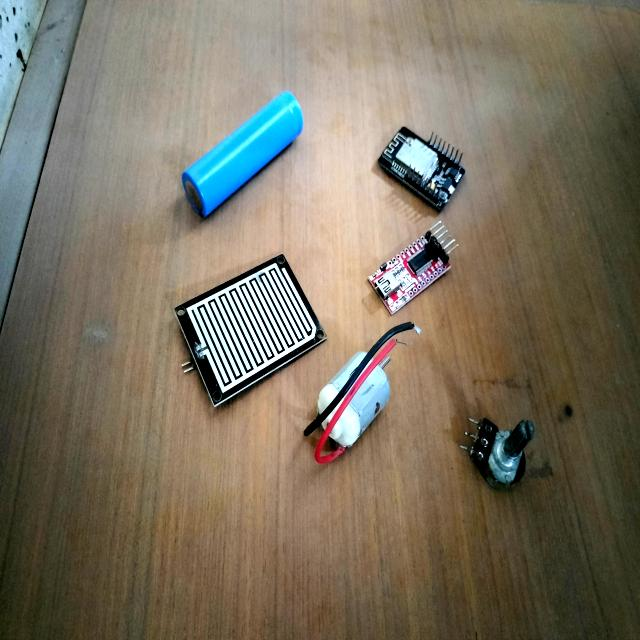3-3-Volt-Battery: (168, 78, 306, 242)
DC-Motor: (286, 321, 408, 490)
ESP32-CAM: (371, 114, 469, 219)
FT-232-USB-Serial-Module: (354, 210, 469, 326)
Raindrops-Module: (160, 235, 322, 423)
Taper-Potentiometer: (449, 397, 549, 499)
